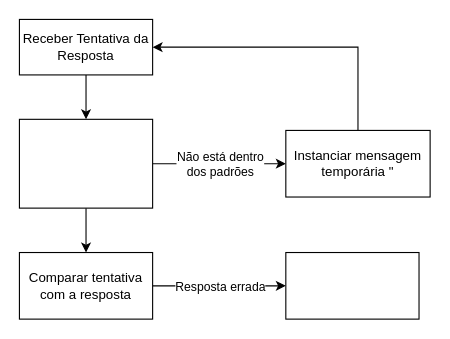
This 450x339 diagram has some shape labels left out. The centre of each missing label's shape, as x and y in pixels:
In: point (352, 285)
Verificar se a resposta está dentro dos padrões (tamanho = 3 ou 4 ou 6 ou 8): point (85, 163)
